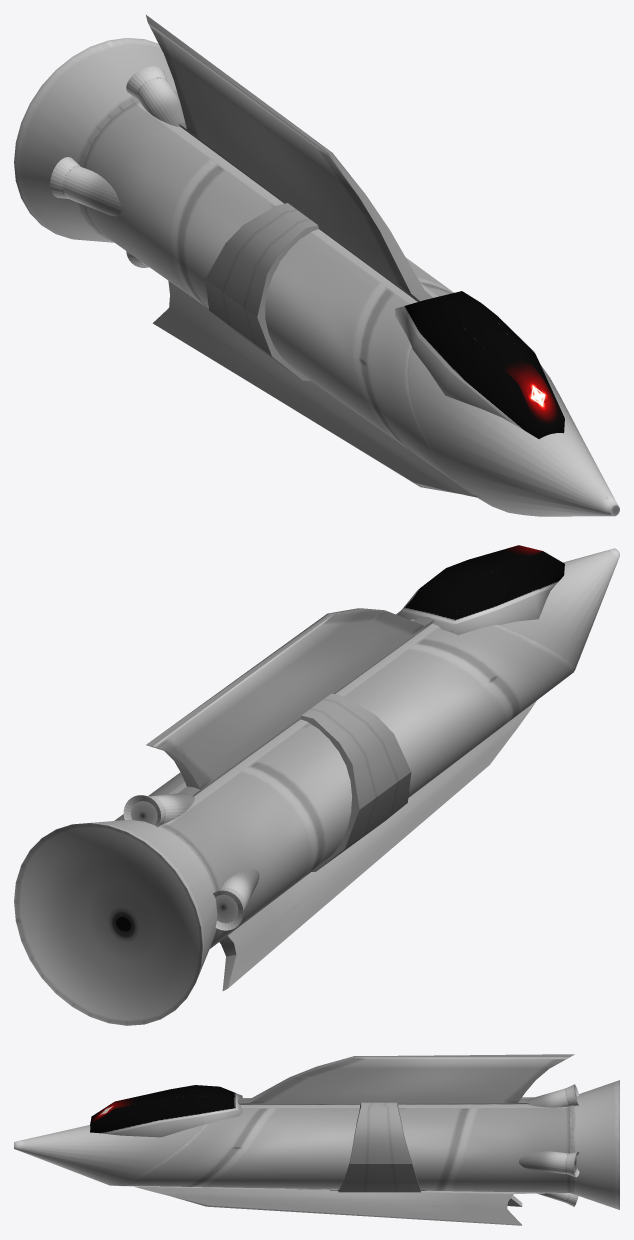
Rendered from Stinger Finished Textured.fbx.
3 renders of one model, top to bottom at view 1: azimuth 30°, elevation 25°; view 2: azimuth 150°, elevation 25°; view 3: azimuth 270°, elevation 25°, orthographic. The views are drawn at different scales.
Visible parts, largest first — view 1: Cylinder.001, Cube, Cube.001, Cylinder.002, Cylinder.006; view 2: Cylinder.001, Cube, Cube.001, Cylinder.002, Cylinder.006; view 3: Cylinder.001, Cube, Cube.001, Cylinder.002, Cylinder.006.
Part boxes in pixels (x1,y1,x2,y2): Cylinder.001: [14, 15, 619, 516]; Cube: [395, 291, 564, 438]; Cube.001: [205, 203, 318, 381]; Cylinder.002: [50, 157, 121, 216]; Cylinder.006: [126, 66, 184, 267]; Cylinder.001: [14, 548, 619, 1025]; Cube: [398, 545, 564, 635]; Cube.001: [300, 693, 411, 871]; Cylinder.002: [213, 868, 259, 930]; Cylinder.006: [123, 793, 194, 827]; Cylinder.001: [14, 1054, 619, 1225]; Cube: [90, 1085, 242, 1137]; Cube.001: [338, 1102, 420, 1192]; Cylinder.002: [518, 1151, 579, 1177]; Cylinder.006: [526, 1084, 578, 1206].
Bounding box in the file's own units: 281 × 373 × 1264.
